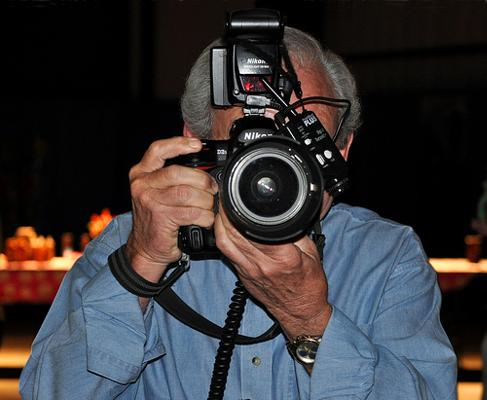person: (19, 25, 456, 400)
